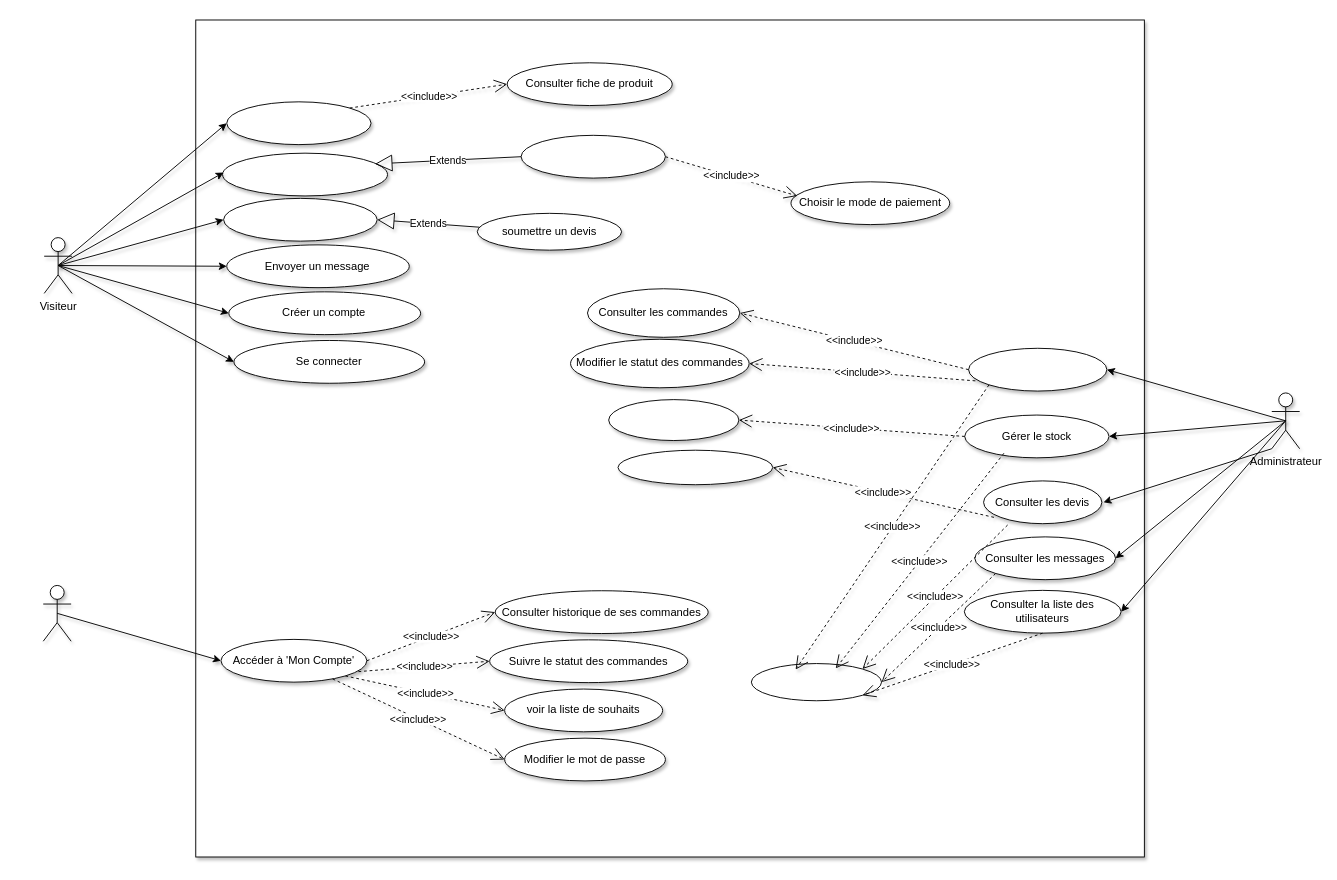
Image size: 1337x880. Some labels were removed from this diagram. The shapes that lost their labels are listed below. From the top down, each one's centre as x and y in pixels, then its label:
[299,124]: Consulter les produits
[305,175]: Ajouter au panier
[593,158]: Passer une commande
[301,221]: Utiliser le configurateur
[1038,371]: Gérer les commandes
[674,421]: Metrre à jour le stock
[695,468]: Modifier le statut des devis
[58,614]: Client authentifié
[816,682]: S'authentifier
